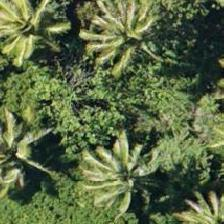coconut_tree: (66, 120, 156, 210), (98, 0, 188, 69), (0, 0, 65, 66), (0, 115, 45, 205)
